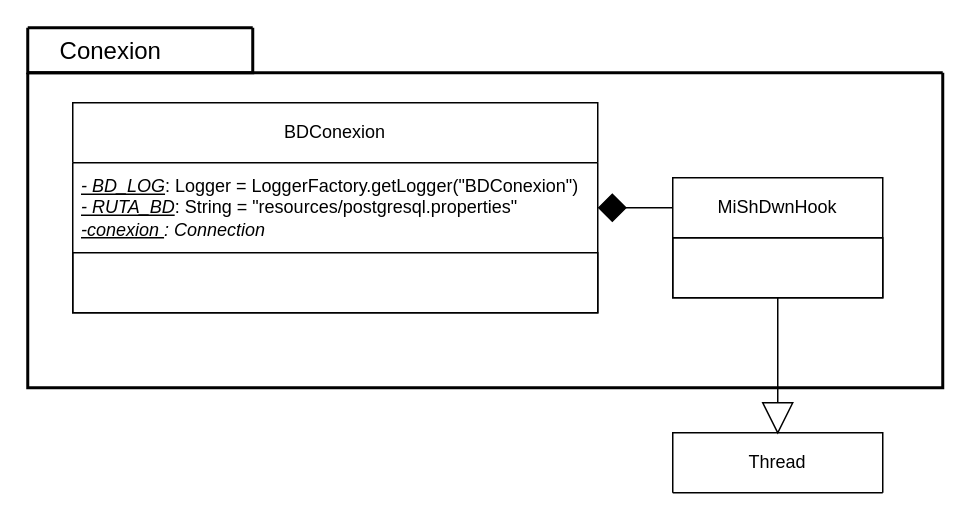
This 969x519 diagram has some shape labels left out. The centre of each missing label's shape, as x and y in pixels:
+ getConnection() : Connection: (x=334, y=282)
+ run(): void: (x=777, y=267)
